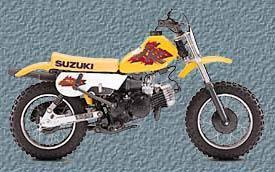motorcycle: (1, 6, 268, 167)
